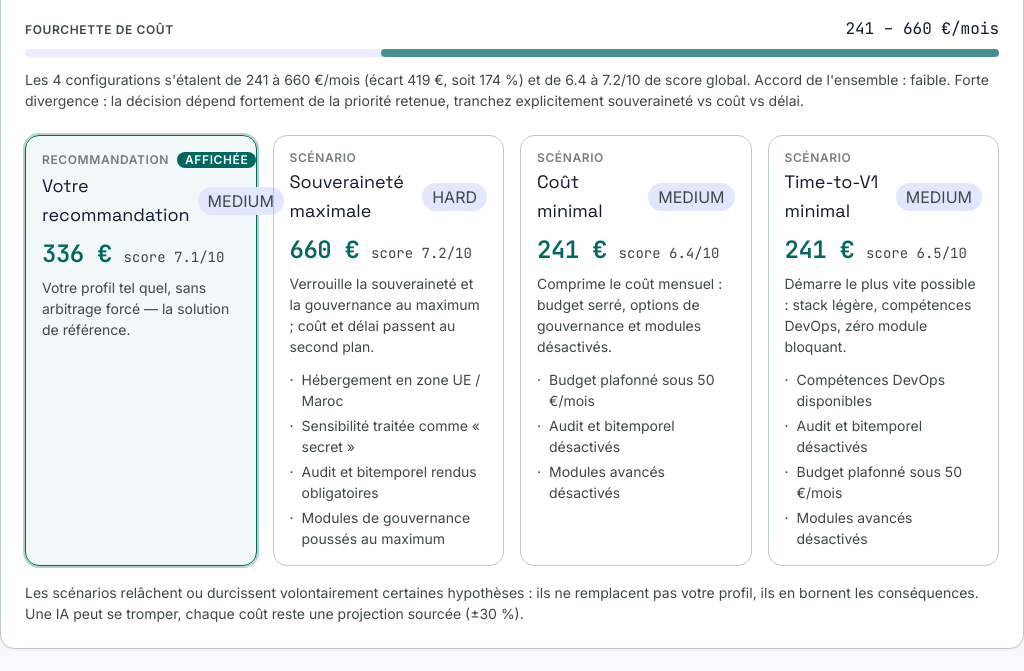
Test case: ResultsView › basculer sur un scénario recalcule la page et affiche le bandeau de retour
(page scrolled)
Expected: the text "Revenir à ma recommandation" is not shown
Bascule sur le scénario « Coût minimal ».
Click the button "Coût minimal".
click(636, 351)  # box [520, 135, 752, 566]
(page scrolled)
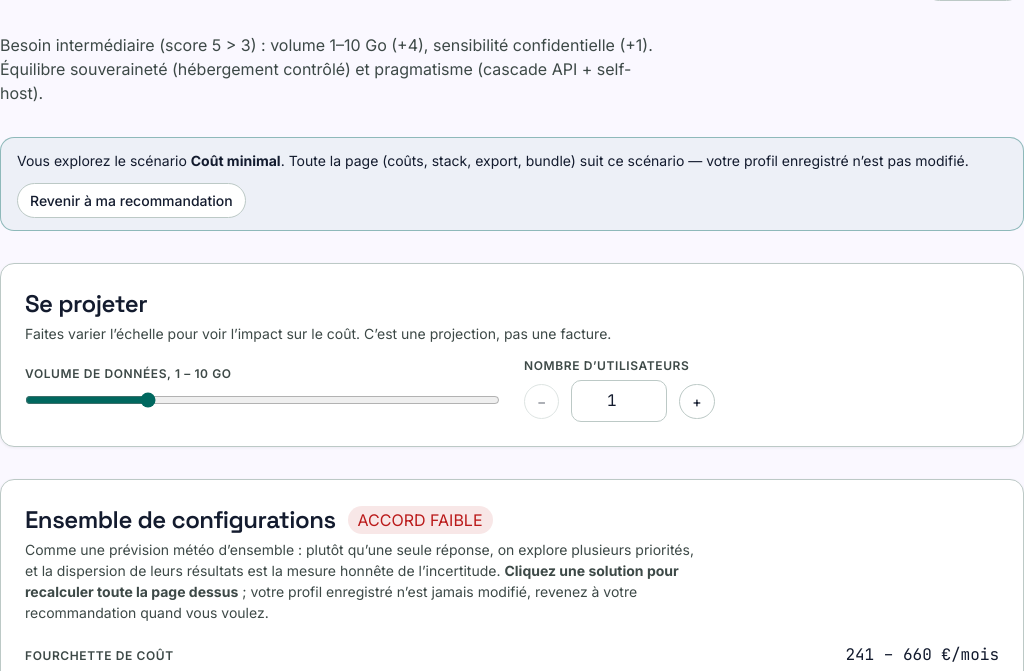
Expected: the button "Revenir à ma recommandation" is shown
Retour à la recommandation de référence.
Click the button "Revenir à ma recommandation".
click(131, 200)  # box [17, 183, 246, 218]
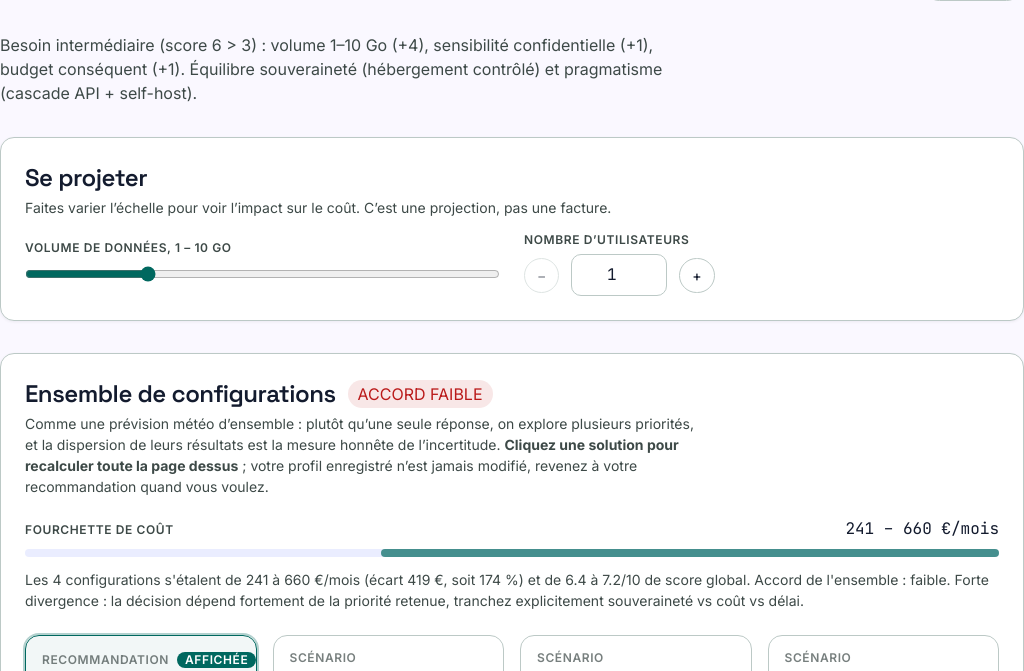
Expected: the button "Revenir à ma recommandation" is gone
